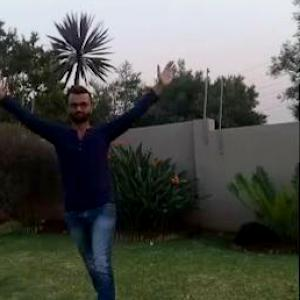takeoff: (1, 58, 179, 299)
